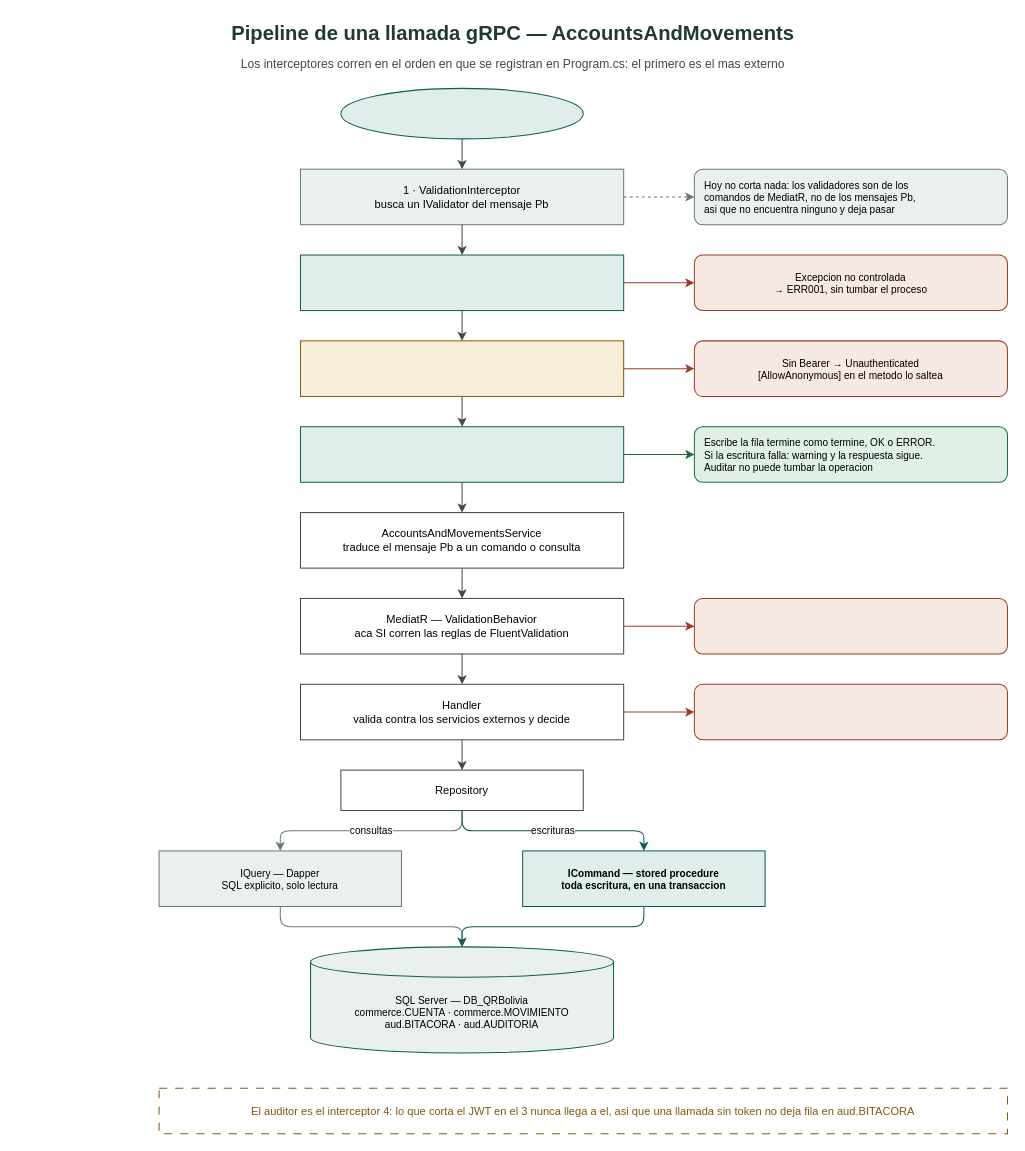
Image size: 1025x1151. Some labels were removed from this diagram. Each missing label, with the box of its shape:
2 · LoggerInterceptor cronometra y registra en Serilog: (299, 254, 624, 311)
3 · JwtAuthorizationInterceptor exige el header; NO valida la firma: (299, 340, 624, 396)
4 · AuditInterceptor deja la fila en aud.BITACORA: (299, 426, 624, 482)
Llamada gRPC Authorization: Bearer ...: (340, 87, 583, 139)
Reglas de negocio → CUSTOMER_NOT_FOUND, QR_EXPIRED, INSUFFICIENT_FUNDS, ...: (693, 683, 1007, 740)
Reglas del comando incumplidas → VAL001: (693, 597, 1007, 654)
